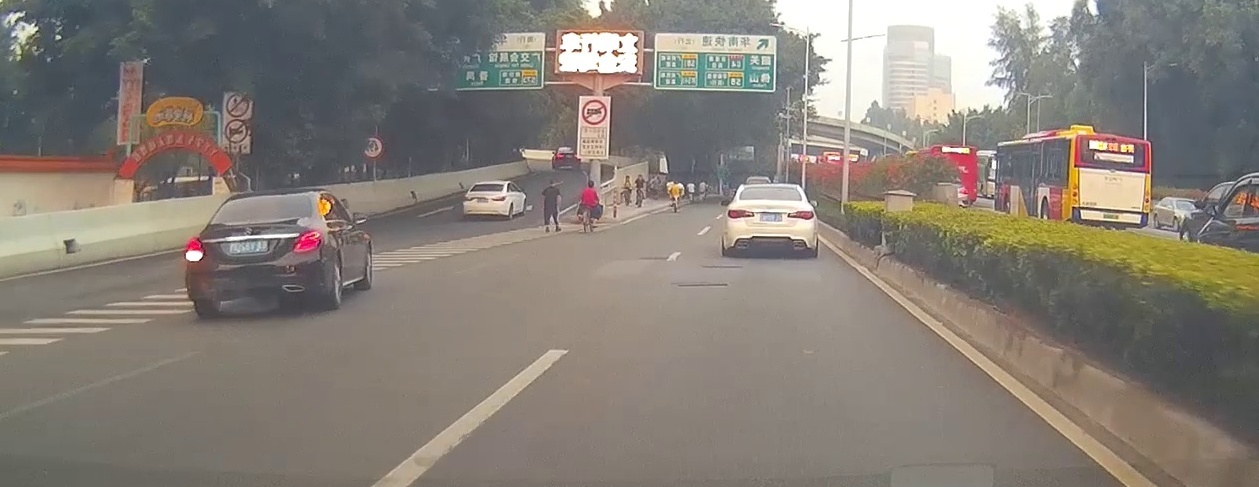L_light: (184, 237, 206, 261), (727, 209, 755, 219), (1071, 181, 1078, 208), (462, 196, 475, 201)
R_light: (292, 229, 323, 254), (787, 210, 815, 221), (1143, 187, 1151, 212), (492, 196, 506, 201)
T_light: (1108, 158, 1125, 164), (253, 194, 276, 198), (764, 186, 781, 190), (484, 183, 493, 185)
day-left: (184, 191, 335, 317)
day-no: (1070, 133, 1152, 241), (721, 185, 818, 256), (461, 180, 509, 219)
